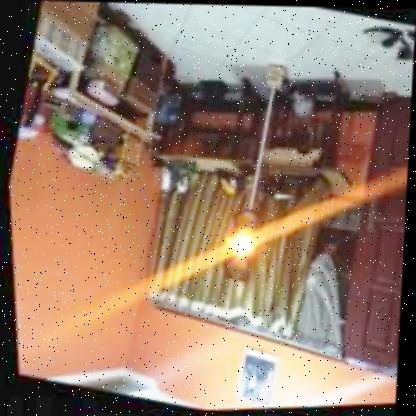Traffic Light -Yellow-: (212, 207, 263, 286)
